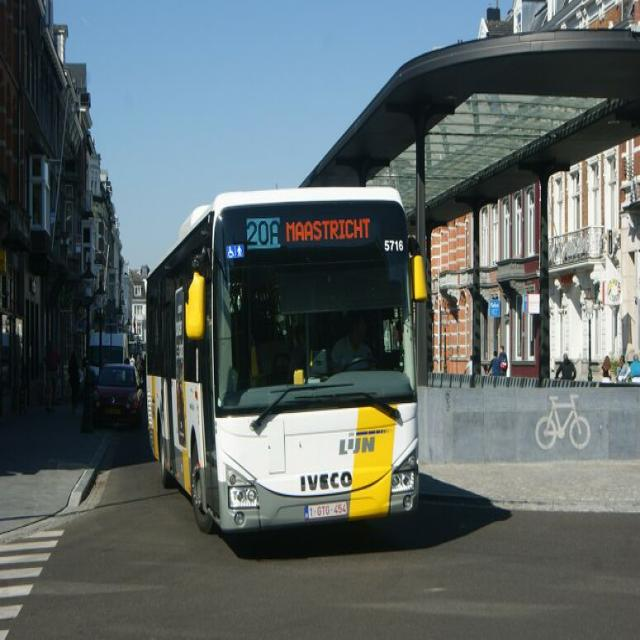bus-number: (244, 217, 282, 252)
